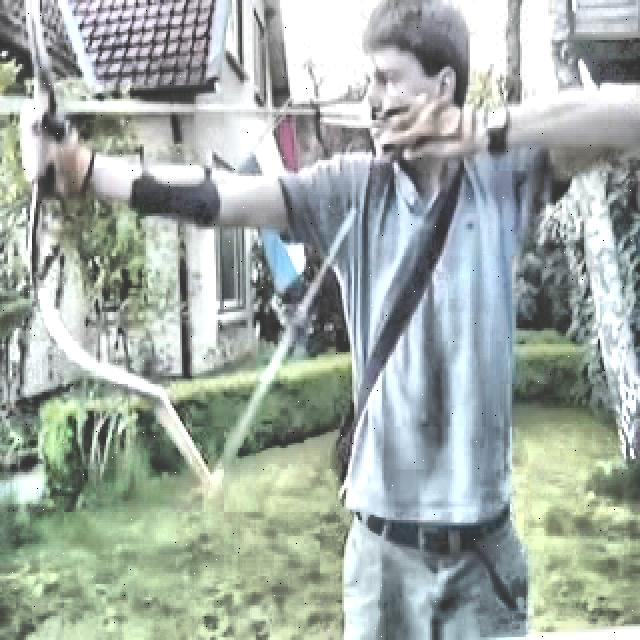P: (6, 0, 546, 640)
